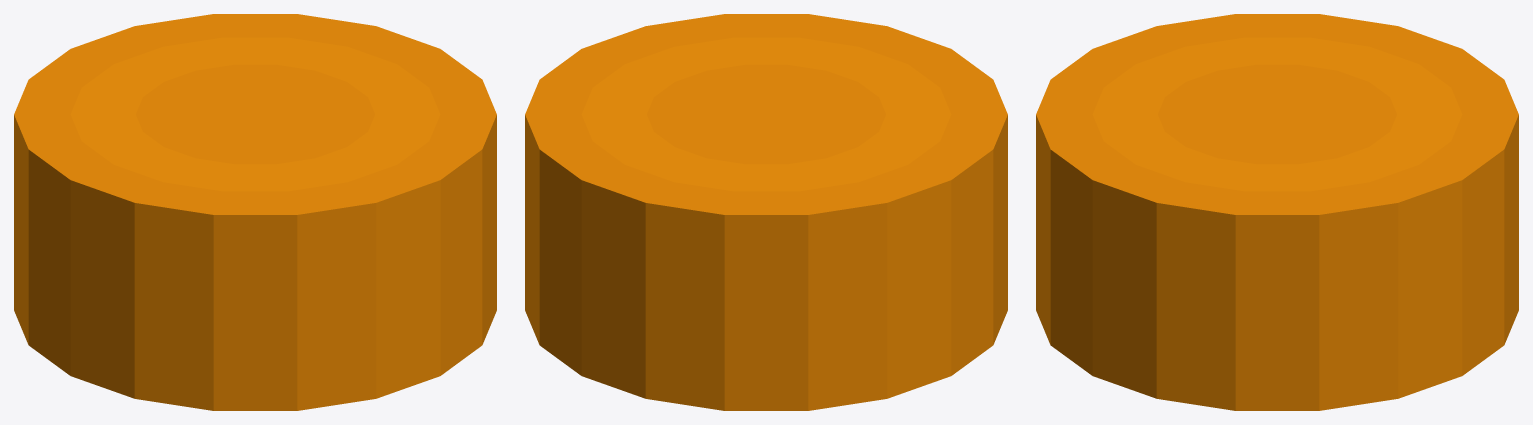
The model's file is Tree log_12.fbx.
The picture shows the model from 3 angles, left to right: view 1: azimuth 30°, elevation 25°; view 2: azimuth 150°, elevation 25°; view 3: azimuth 270°, elevation 25°; orthographic projection.
Parts seen in each view (by area): view 1: Circle.244; view 2: Circle.244; view 3: Circle.244.
Boxes of the visible parts, x1=… form: Circle.244: x1=14, y1=14, x2=496, y2=410; Circle.244: x1=525, y1=14, x2=1007, y2=410; Circle.244: x1=1036, y1=14, x2=1518, y2=410.
Bounding box in the file's own units: 20.08 × 9.13 × 20.39.
